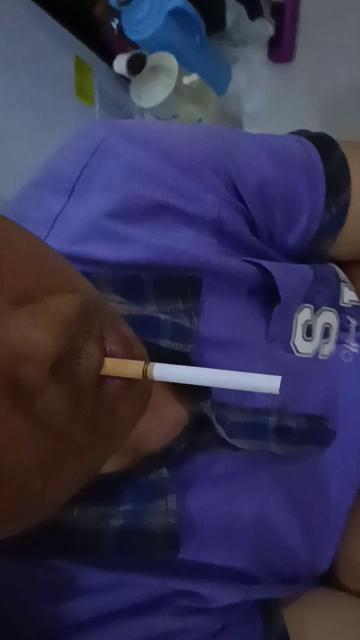Smoking: (101, 359, 285, 396)
